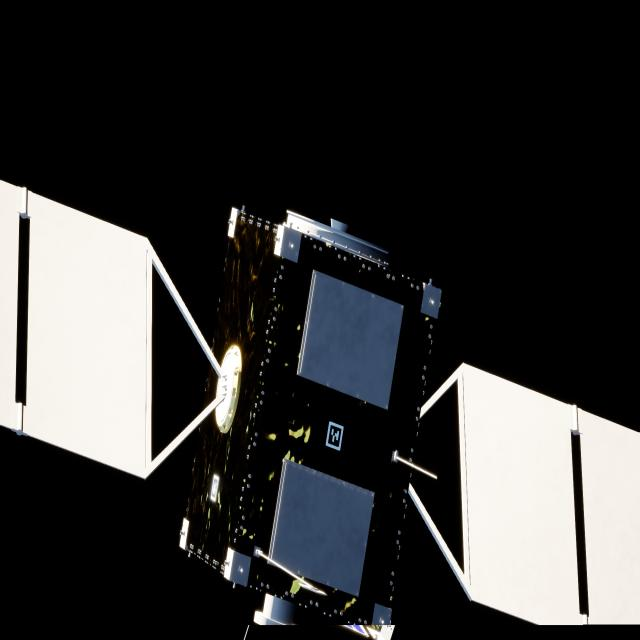satellite: (0, 181, 640, 630)
